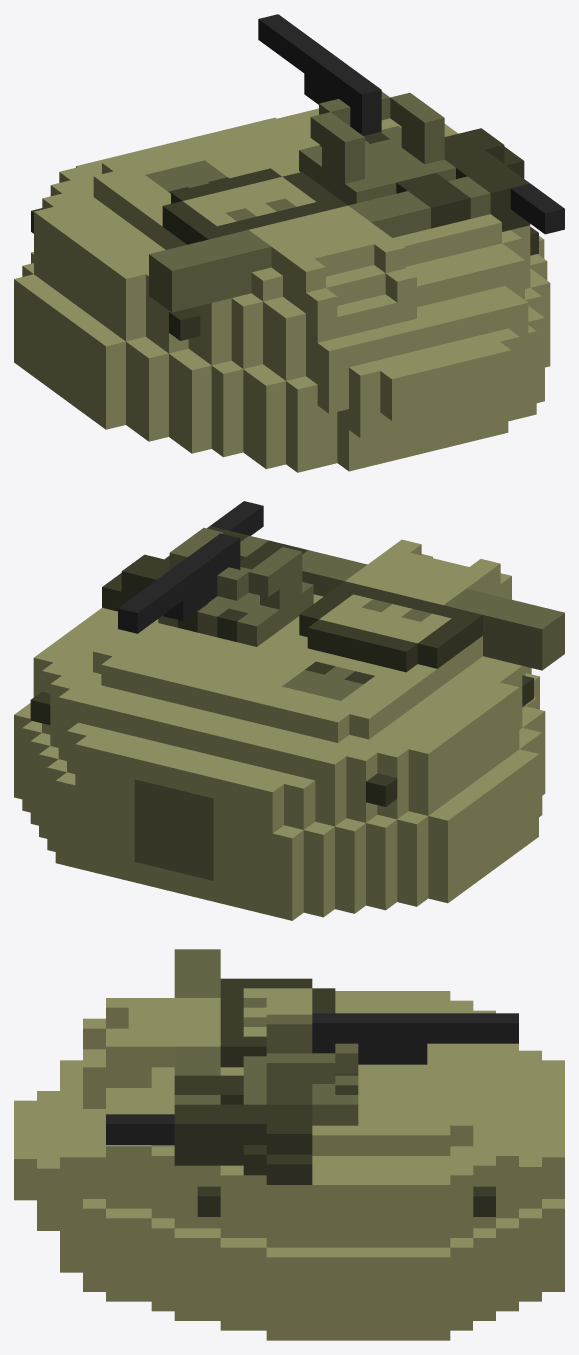
Rendered from Turret.fbx.
3 renders of one model, top to bottom at view 1: azimuth 30°, elevation 25°; view 2: azimuth 150°, elevation 25°; view 3: azimuth 270°, elevation 25°, orthographic.
Visible parts, largest first — view 1: Untitled.002; view 2: Untitled.002; view 3: Untitled.002.
Part boxes in pixels (box(x1,y1,x2,y2)): Untitled.002: box(14, 14, 564, 472); Untitled.002: box(14, 501, 564, 920); Untitled.002: box(14, 949, 564, 1340).
Bounding box in the file's own units: 220 × 120 × 240.
Materials: 1 (1 with a texture image).
